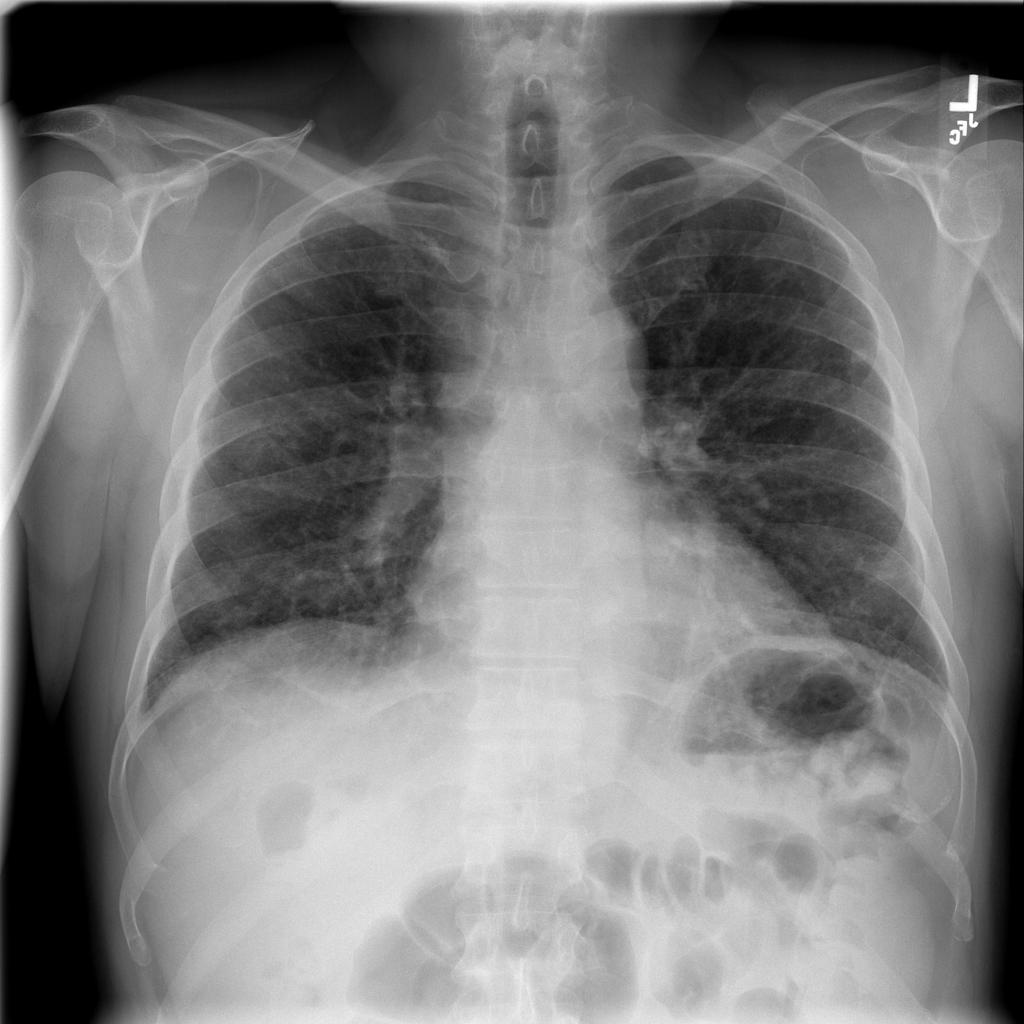nodule: (836, 332, 888, 381)
